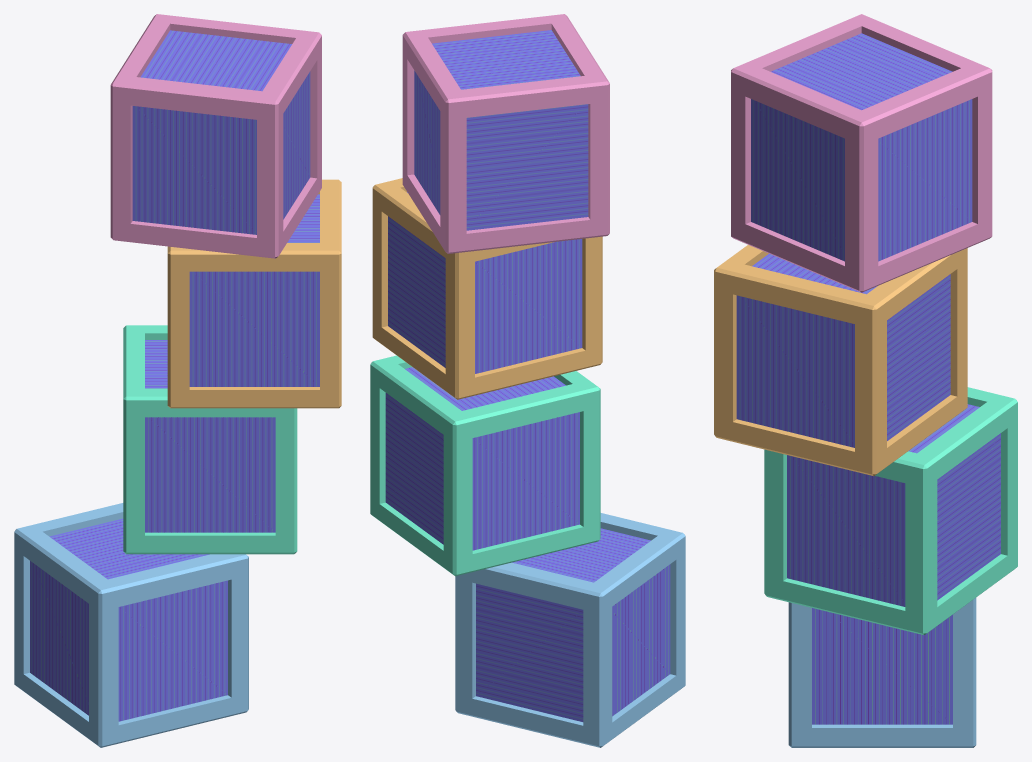
The model's file is WoodBlocks_Group_C_01.FBX.
3 views of the same model, side by side, from view 1: azimuth 30°, elevation 25°; view 2: azimuth 150°, elevation 25°; view 3: azimuth 270°, elevation 25° (orthographic). The views are drawn at different scales.
Parts seen in each view (by area): view 1: WoodBlocks_Group_C_Rough_01, WoodBlocks_Group_C_01; view 2: WoodBlocks_Group_C_Rough_01, WoodBlocks_Group_C_01; view 3: WoodBlocks_Group_C_Rough_01, WoodBlocks_Group_C_01.
Part boxes in pixels (x1=…): WoodBlocks_Group_C_Rough_01: x1=30, y1=30, x2=319, y2=721; WoodBlocks_Group_C_01: x1=14, y1=14, x2=341, y2=747; WoodBlocks_Group_C_Rough_01: x1=385, y1=30, x2=670, y2=721; WoodBlocks_Group_C_01: x1=370, y1=14, x2=685, y2=747; WoodBlocks_Group_C_Rough_01: x1=736, y1=33, x2=1000, y2=724; WoodBlocks_Group_C_01: x1=714, y1=14, x2=1017, y2=747.
Size of the model in its own units: 2.24 by 4.8 by 1.94.
